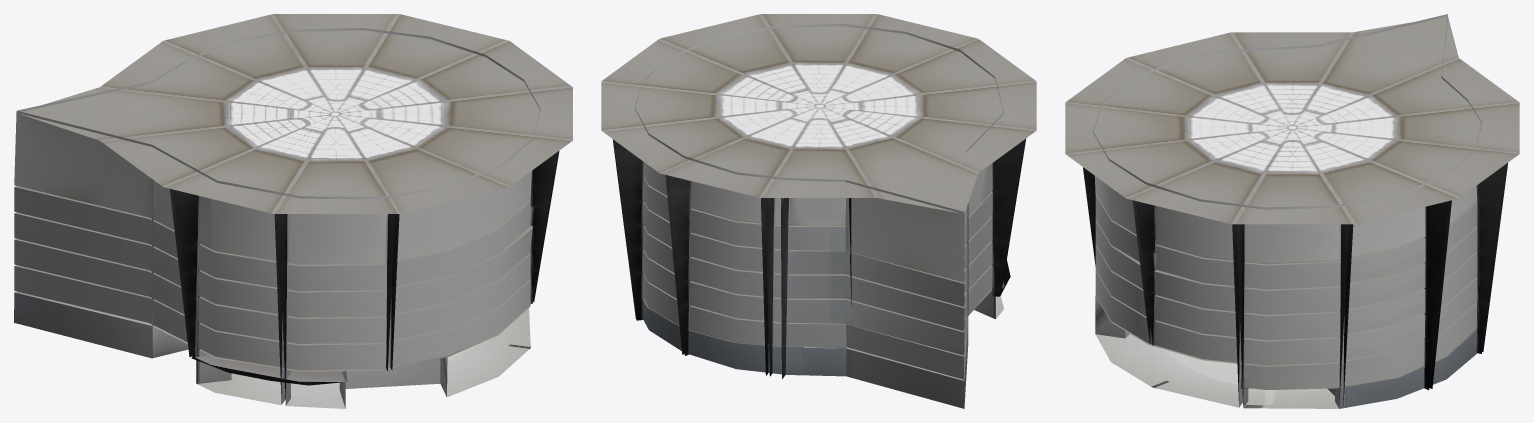
Rendered from gugenhaim.obj.
3 renders of one model, left to right at view 1: azimuth 30°, elevation 25°; view 2: azimuth 150°, elevation 25°; view 3: azimuth 270°, elevation 25°, orthographic. The views are drawn at different scales.
Parts seen in each view (by area): view 1: temp_mesh_02_temp_roof_polySurface31_mesh_02; view 2: temp_mesh_02_temp_roof_polySurface31_mesh_02; view 3: temp_mesh_02_temp_roof_polySurface31_mesh_02.
Part boxes in pixels (x1=…): temp_mesh_02_temp_roof_polySurface31_mesh_02: x1=14, y1=14, x2=572, y2=408; temp_mesh_02_temp_roof_polySurface31_mesh_02: x1=601, y1=14, x2=1036, y2=408; temp_mesh_02_temp_roof_polySurface31_mesh_02: x1=1065, y1=14, x2=1519, y2=408.
Size of the model in its own units: 63.94 by 29.21 by 58.86.
2 materials, 1 textured.
